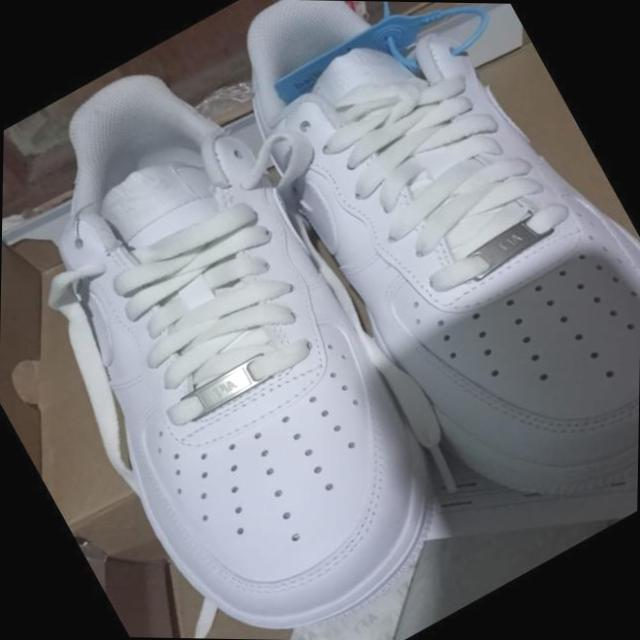nike_original_airforce: (0, 29, 483, 640), (194, 0, 640, 554)
